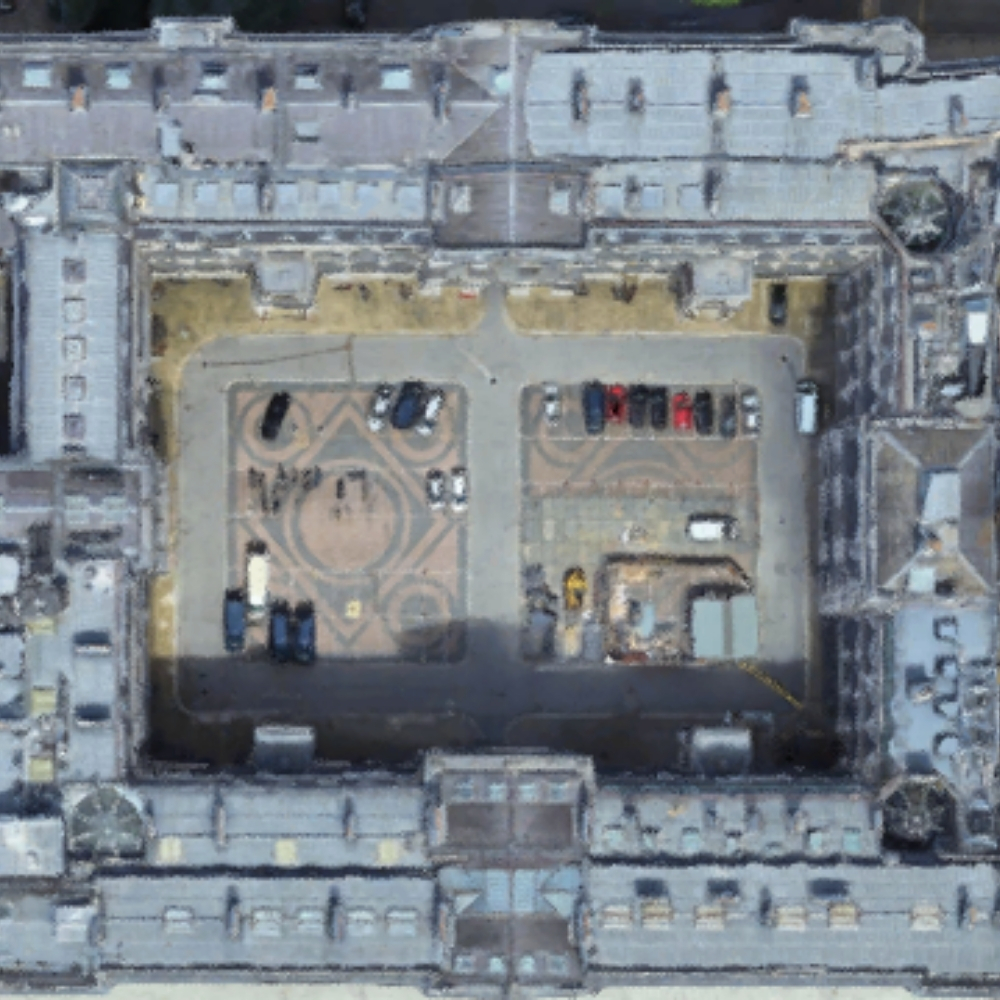parking: (175, 335, 805, 715)
